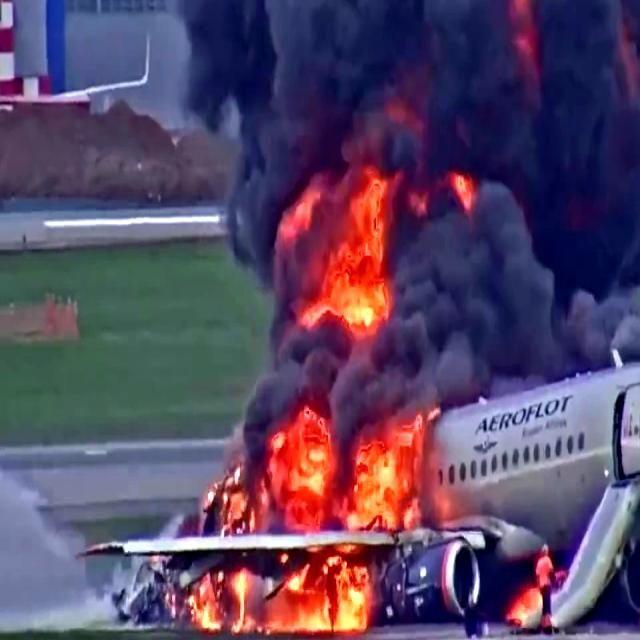fire: (310, 170, 392, 337), (220, 546, 361, 626), (258, 406, 336, 526), (345, 415, 420, 527)
smoke: (400, 0, 640, 252), (168, 0, 640, 118), (168, 0, 398, 145), (396, 182, 544, 390)
